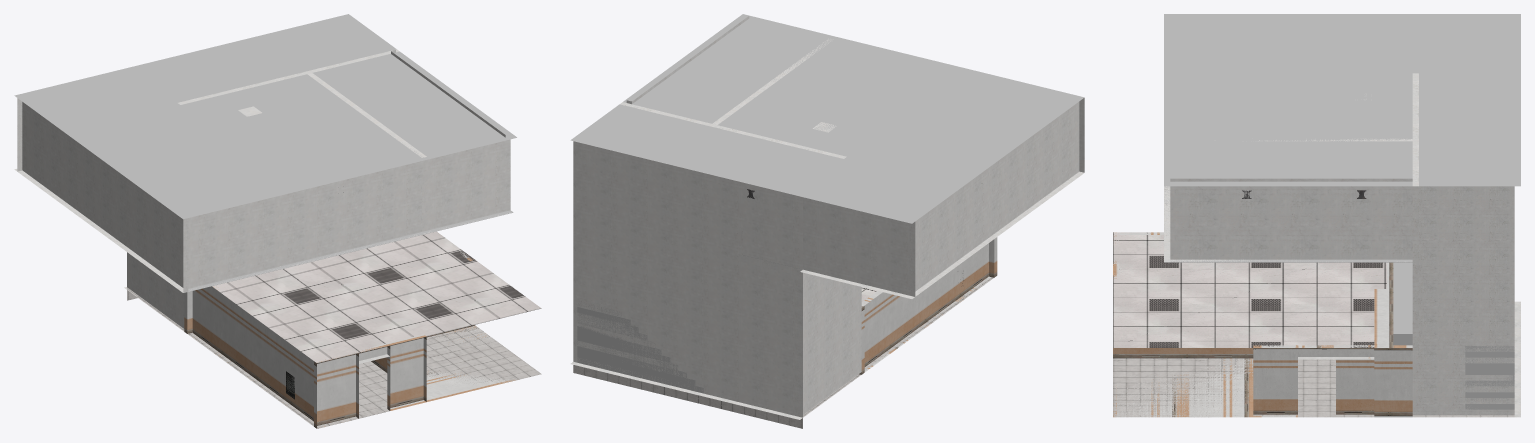
The model's file is RZ_room2C_intercom.gltf.
3 renders of one model, left to right at view 1: azimuth 30°, elevation 25°; view 2: azimuth 150°, elevation 25°; view 3: azimuth 270°, elevation 25°, orthographic. The views are drawn at different scales.
Visible parts, largest first — view 1: RZ_room2C_intercom; view 2: RZ_room2C_intercom; view 3: RZ_room2C_intercom.
Part boxes in pixels (x1,y1,x2,y2): RZ_room2C_intercom: [14, 14, 541, 428]; RZ_room2C_intercom: [570, 14, 1084, 428]; RZ_room2C_intercom: [1113, 14, 1520, 417].
Bounding box in the file's own units: 20.48 × 13.6 × 20.48.
